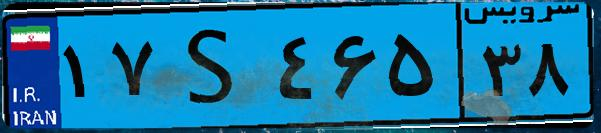1: (57, 26, 110, 100)
3: (475, 38, 525, 113)
4: (270, 28, 330, 110)
5: (385, 28, 445, 110)
6: (330, 28, 385, 110)
7: (110, 28, 158, 98)
8: (525, 38, 570, 115)
S: (158, 12, 270, 120)
